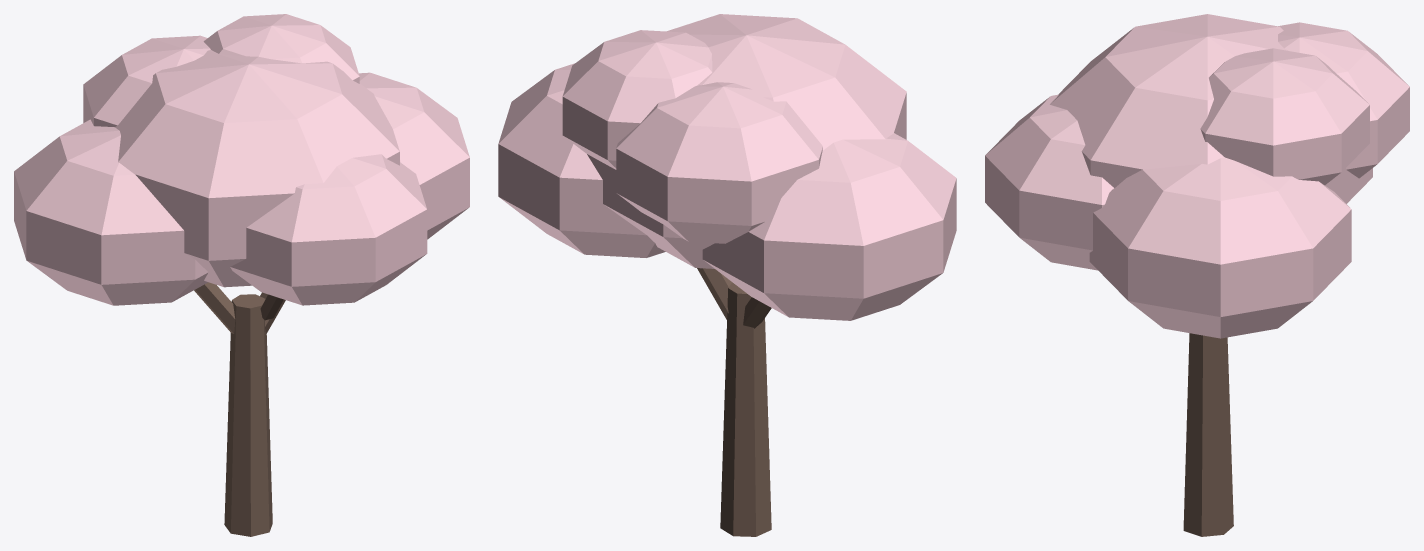
Rendered from tree_cherry.glb.
3 renders of one model, left to right at view 1: azimuth 30°, elevation 25°; view 2: azimuth 150°, elevation 25°; view 3: azimuth 270°, elevation 25°, orthographic. The views are drawn at different scales.
Visible parts, largest first — view 1: tree_cherry; view 2: tree_cherry; view 3: tree_cherry.
Part boxes in pixels (left/top/right/bottom): tree_cherry: left=14, top=14, right=469, bottom=536; tree_cherry: left=498, top=14, right=956, bottom=536; tree_cherry: left=985, top=14, right=1409, bottom=536.
Size of the model in its own units: 5.18 by 5.5 by 4.3.
